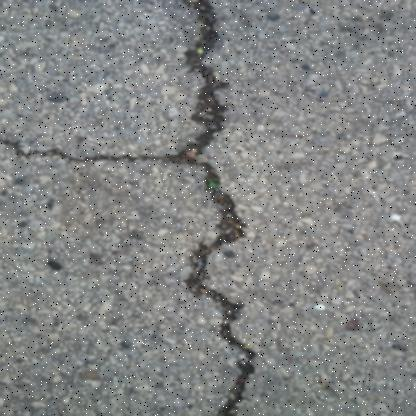Cracks: (154, 0, 278, 415), (0, 134, 204, 169)
